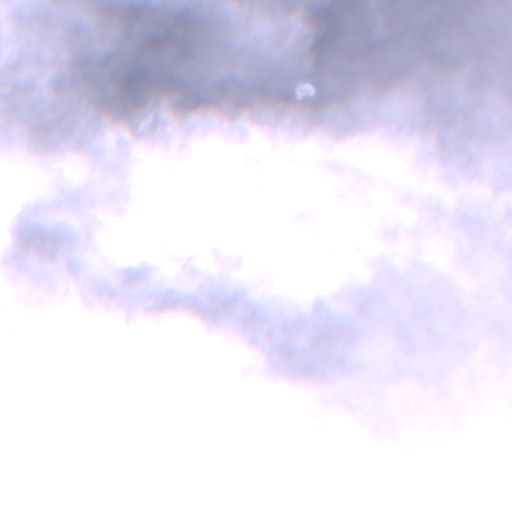Iceberg: (296, 84, 314, 98)
